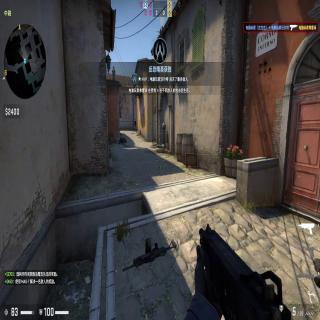T-Body: (134, 119, 136, 132)
T-Head: (134, 119, 136, 121)
